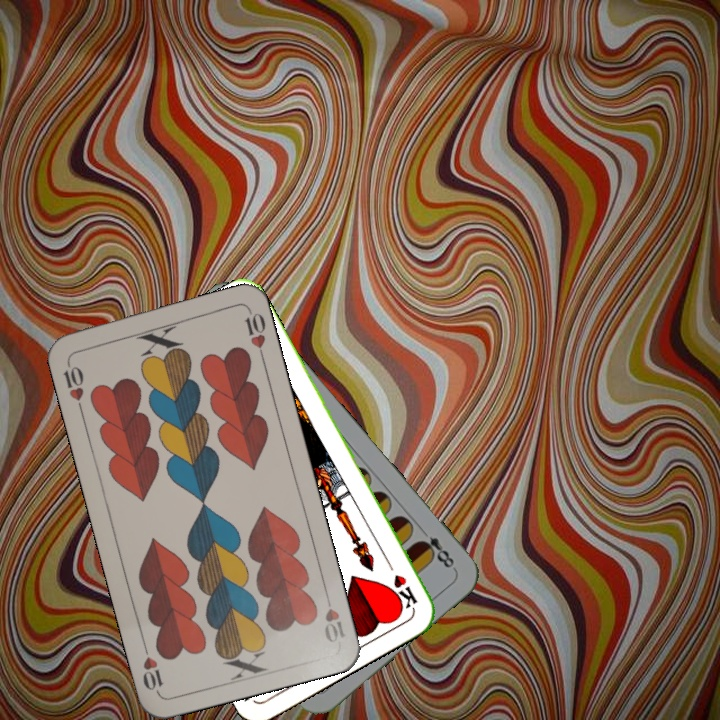E8: (414, 531, 458, 573)
H10: (320, 588, 349, 646), (59, 356, 86, 414)
HK: (382, 555, 420, 612)
